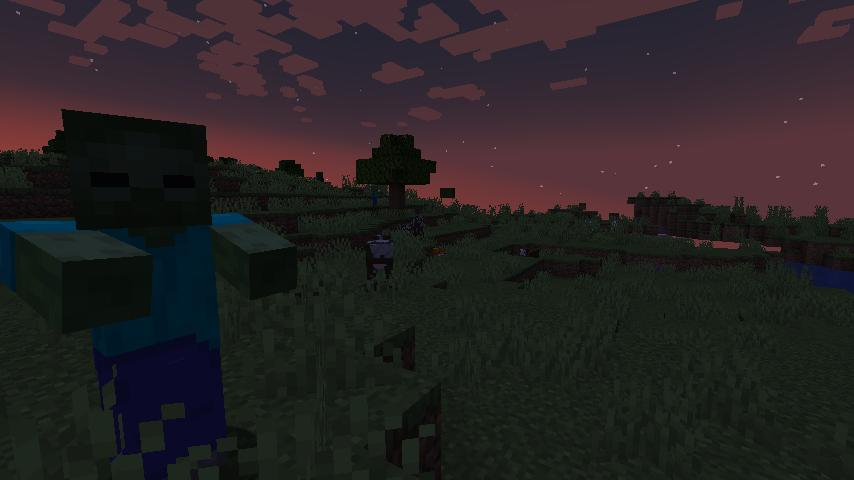cow: (363, 232, 396, 296), (409, 215, 425, 238), (402, 224, 411, 237)
fox: (432, 245, 446, 260)
sheep: (519, 247, 541, 261)
zombie: (0, 105, 303, 480), (370, 185, 379, 207)
